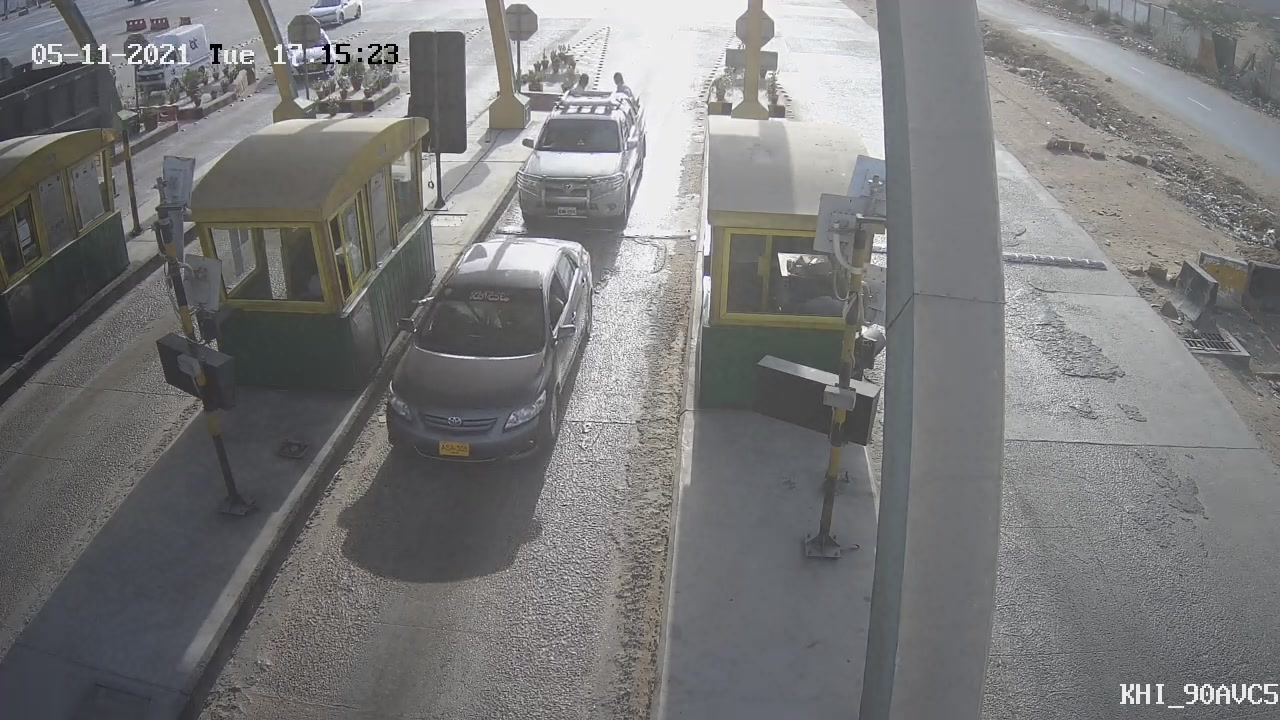F1: (353, 216, 617, 482), (495, 62, 659, 247)
